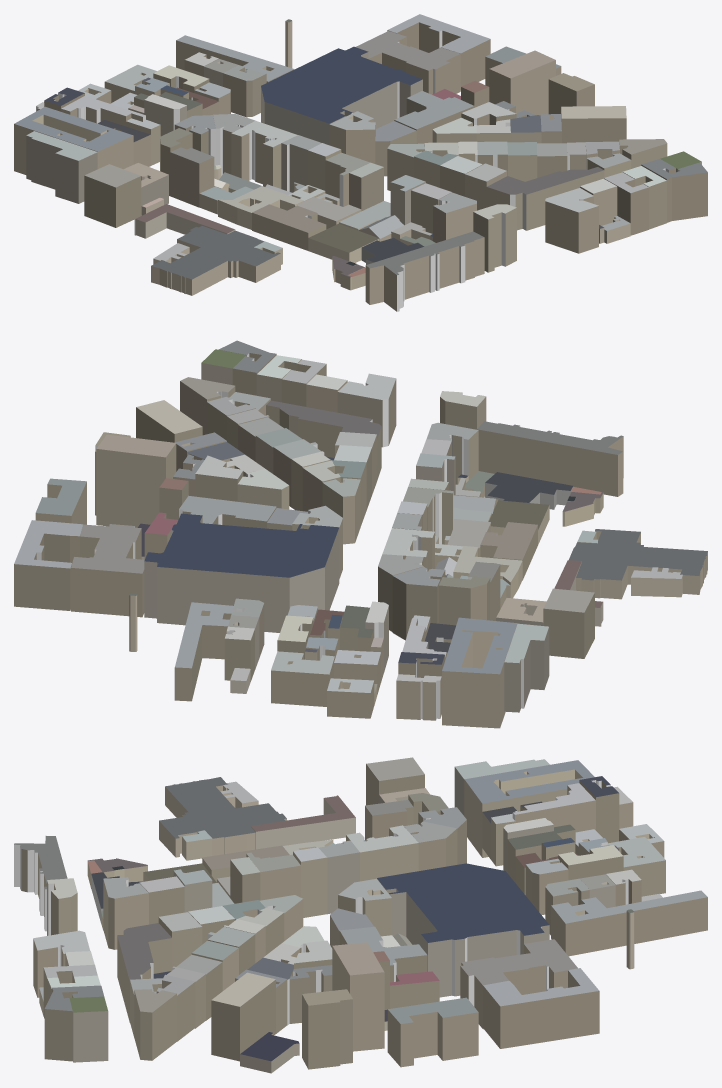
3 views of the same model, one above another, from view 1: azimuth 30°, elevation 25°; view 2: azimuth 150°, elevation 25°; view 3: azimuth 270°, elevation 25° (orthographic). The views are drawn at different scales.
Parts seen in each view (by area): view 1: tuile; view 2: tuile; view 3: tuile.
Part boxes in pixels (x1,y1,x2,y2): tuile: (14, 14, 707, 311); tuile: (14, 340, 707, 728); tuile: (14, 757, 707, 1073).
Bounding box in the file's own units: 269 × 39.33 × 284.
